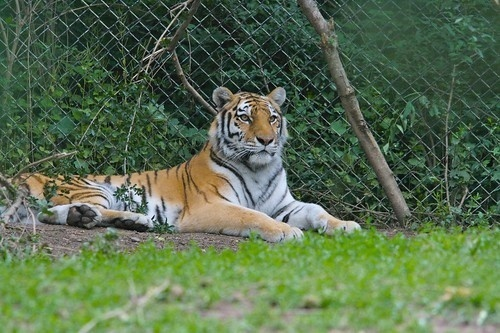tigre: (14, 82, 368, 244)
